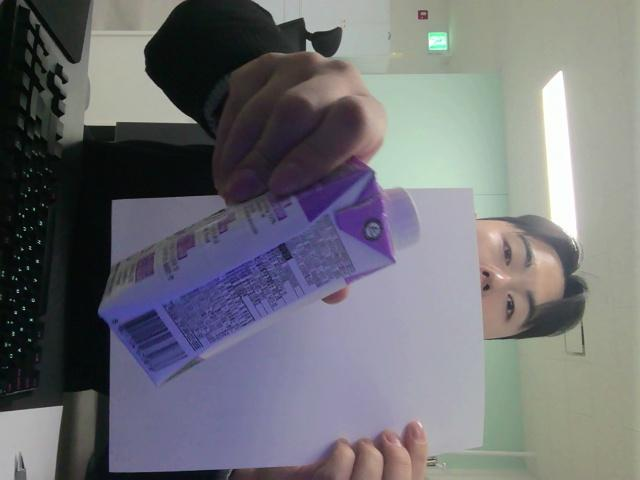milk: (99, 159, 419, 384)
